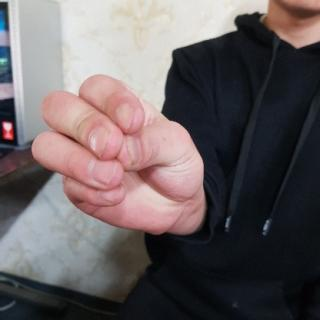HA: (27, 70, 210, 244)
